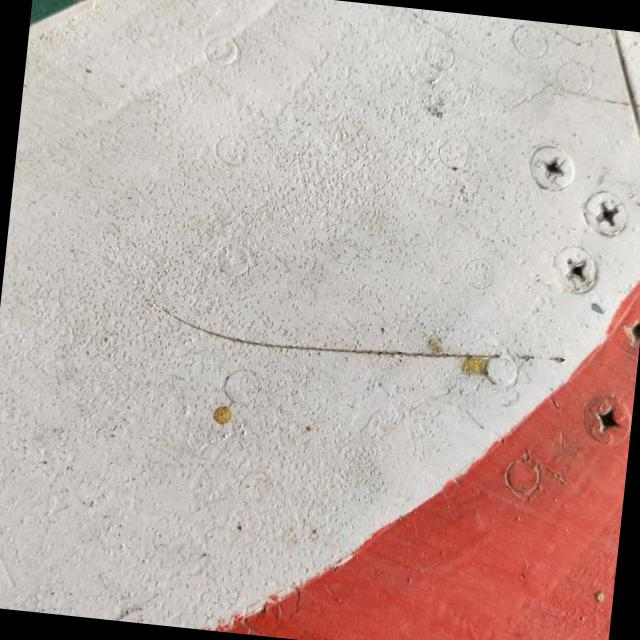Scratch: (159, 306, 507, 377)
